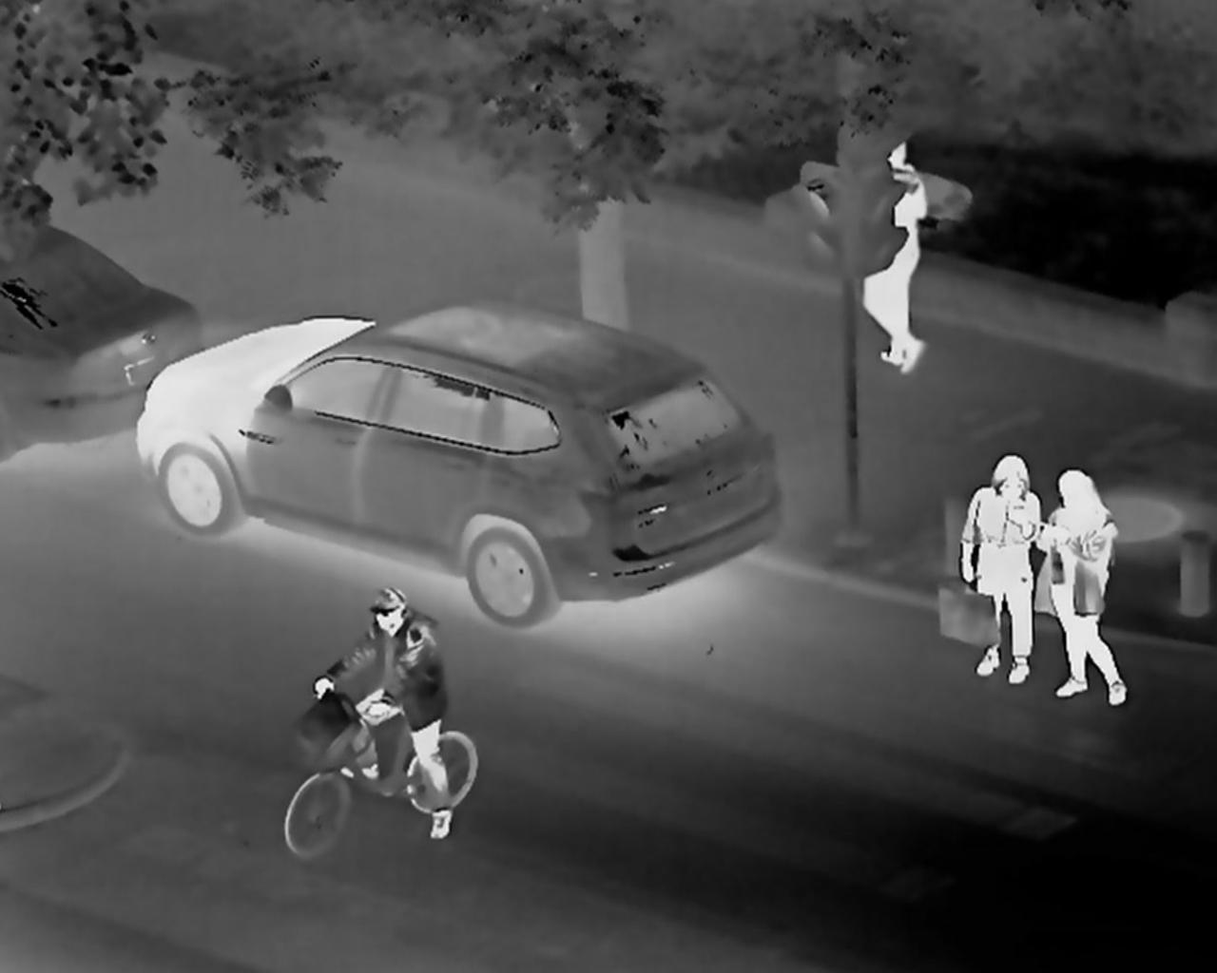person: (339, 565, 477, 844), (1055, 464, 1124, 706), (977, 459, 1034, 688), (877, 134, 924, 376)
